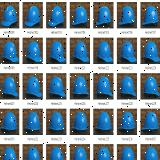Helmet: (72, 41, 90, 62), (119, 41, 137, 62), (48, 76, 66, 97), (95, 76, 113, 97), (142, 76, 160, 96), (143, 41, 160, 62), (2, 41, 19, 62), (49, 41, 66, 62), (96, 41, 113, 62), (1, 5, 17, 27), (95, 6, 112, 26), (24, 6, 40, 27), (48, 6, 64, 27), (2, 76, 18, 97), (26, 41, 42, 62), (26, 76, 42, 97), (71, 6, 88, 25), (142, 6, 159, 25), (118, 111, 135, 130), (72, 76, 89, 95), (120, 76, 136, 96), (142, 112, 159, 130), (0, 112, 17, 130), (95, 112, 112, 130), (119, 6, 135, 25), (72, 112, 88, 130), (24, 112, 40, 130), (49, 112, 64, 130), (143, 146, 158, 160), (120, 146, 134, 160), (96, 146, 110, 160), (73, 146, 87, 160), (50, 147, 64, 160), (26, 147, 40, 160), (3, 147, 16, 160)
